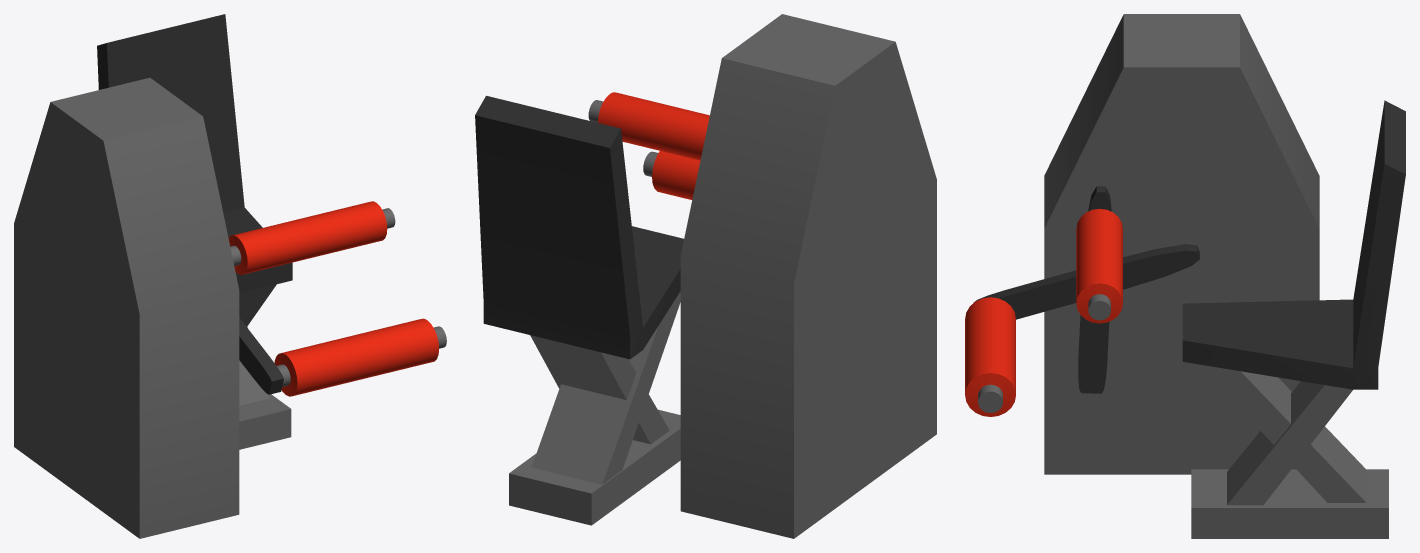
Rendered from legLifeMachine.fbx.
The picture shows the model from 3 angles, left to right: view 1: azimuth 30°, elevation 25°; view 2: azimuth 150°, elevation 25°; view 3: azimuth 270°, elevation 25°; orthographic projection. The views are drawn at different scales.
Parts seen in each view (by area): view 1: Leg Lift Machine; view 2: Leg Lift Machine; view 3: Leg Lift Machine.
Part boxes in pixels (x1,y1,x2,y2): Leg Lift Machine: [14, 14, 446, 538]; Leg Lift Machine: [475, 14, 936, 538]; Leg Lift Machine: [965, 14, 1405, 538].
Size of the model in its own units: 72.7 by 91.49 by 93.4.
